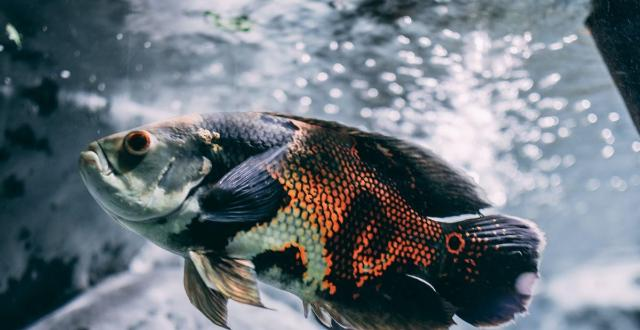Mulut: (66, 134, 110, 184)
Sirip Anal: (310, 269, 459, 330)
Sirip Dada: (196, 143, 298, 219)
Sirip Ekor: (440, 206, 552, 330)
Sirip Perut: (175, 248, 272, 330)
Sirip Punggung: (332, 108, 492, 220)
